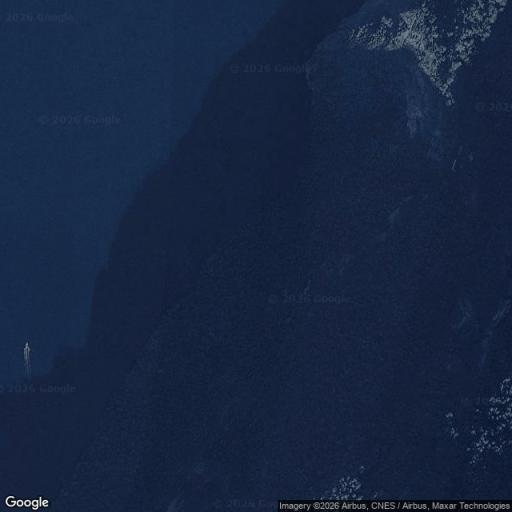ship: (20, 338, 34, 371)
